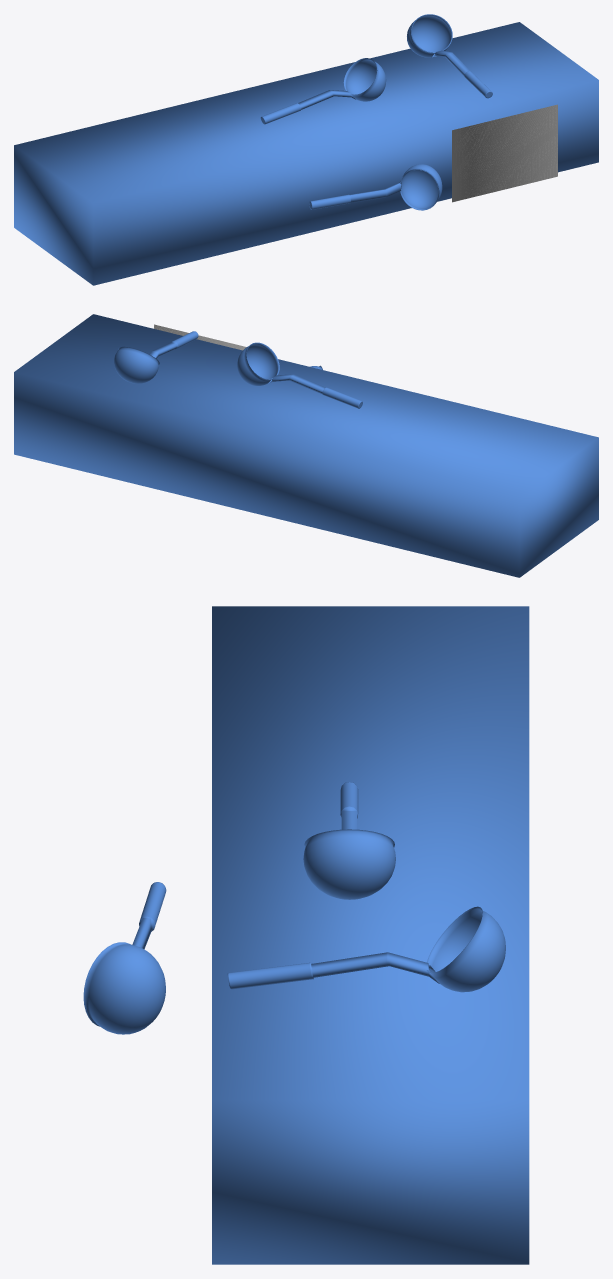
The picture shows the model from 3 angles, top to bottom: view 1: azimuth 30°, elevation 25°; view 2: azimuth 150°, elevation 25°; view 3: azimuth 270°, elevation 25°; orthographic projection. The views are drawn at different scales.
Visible parts, largest first — view 1: Box002, Box003, Cylinder005, Cylinder003, Cylinder004; view 2: Box002, Cylinder003, Cylinder004, Box003; view 3: Box002, Cylinder004, Cylinder005, Cylinder003.
Boxes of the visible parts, <box> form: Box002: <box>14,22,598,285</box>; Box003: <box>452,104,557,202</box>; Cylinder005: <box>309,164,442,210</box>; Cylinder003: <box>260,58,386,124</box>; Cylinder004: <box>407,14,492,98</box>; Box002: <box>14,314,598,577</box>; Cylinder003: <box>237,342,362,408</box>; Cylinder004: <box>114,331,198,383</box>; Box003: <box>154,324,246,350</box>; Box002: <box>212,606,529,1264</box>; Cylinder004: <box>227,906,505,992</box>; Cylinder005: <box>83,882,166,1034</box>; Cylinder003: <box>303,782,395,899</box>.
Bounding box in the file's own units: 170 × 39.87 × 64.96.
